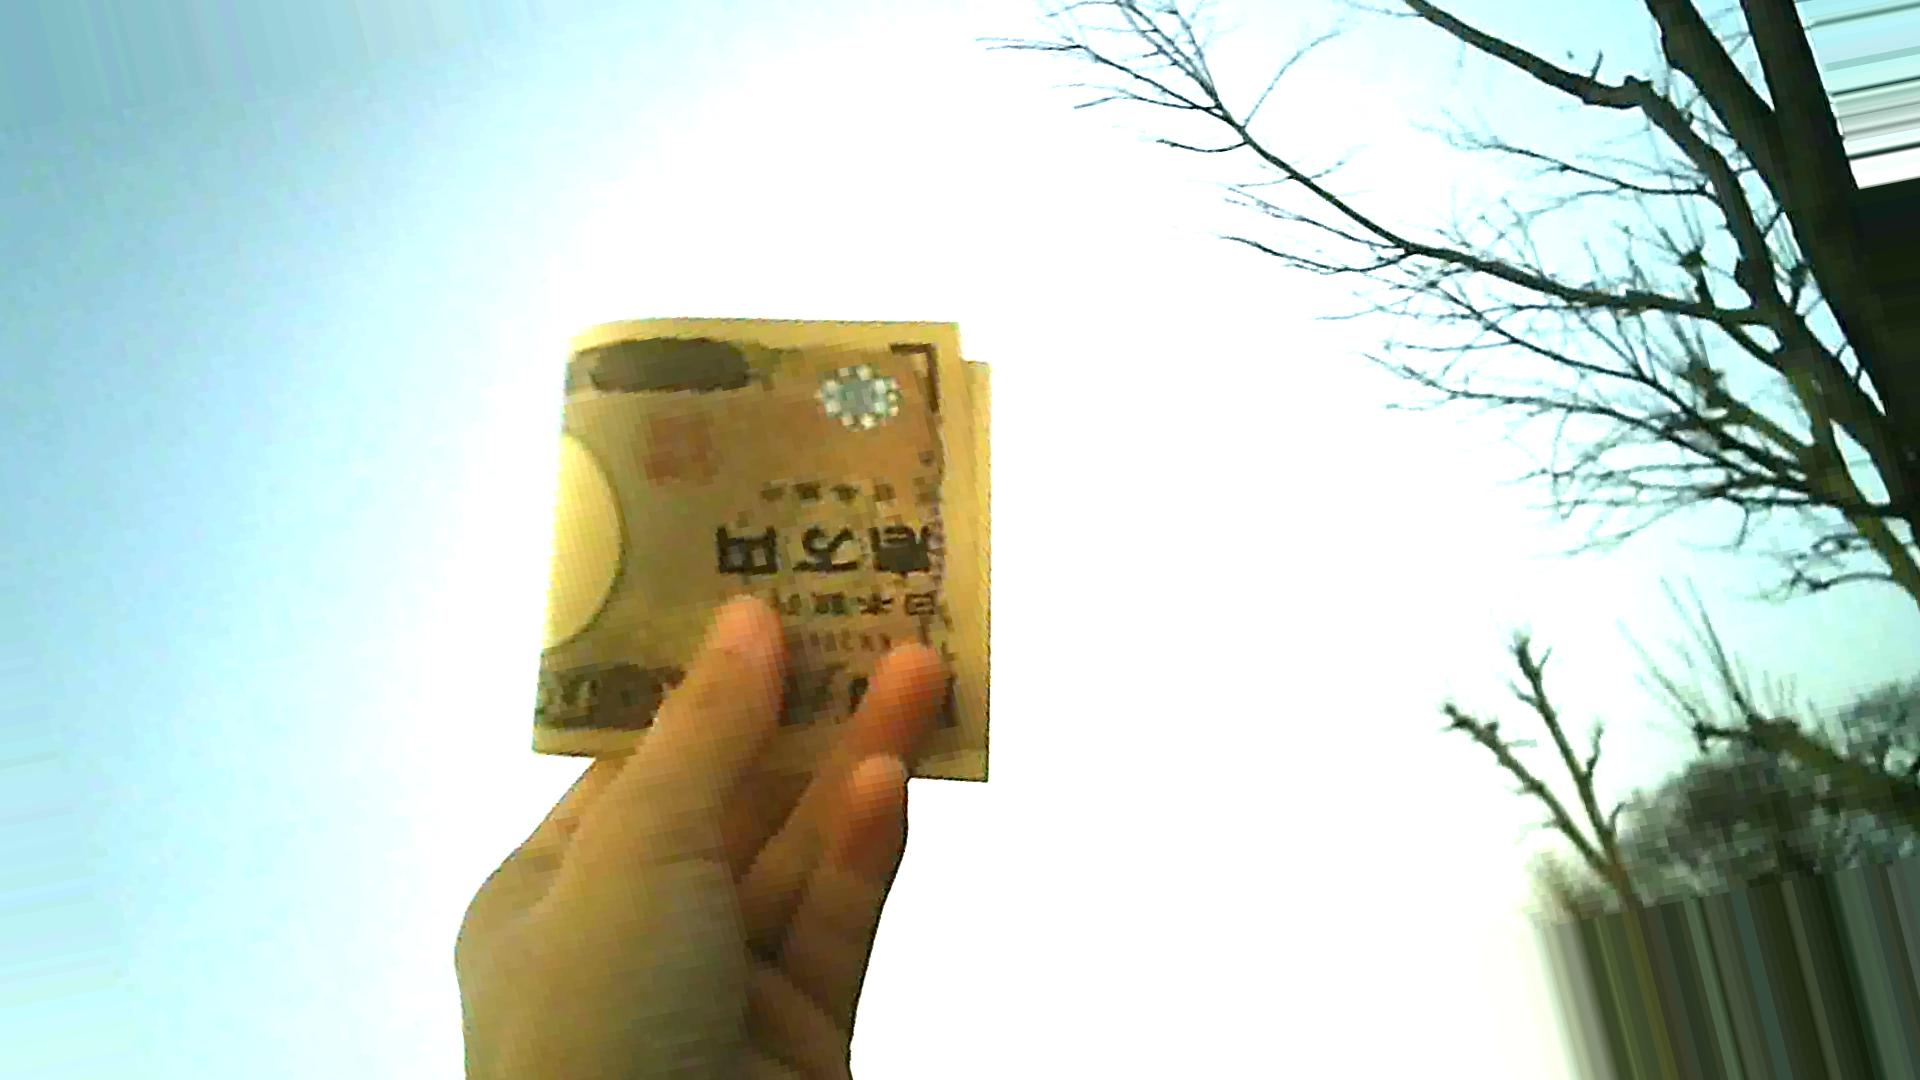10,000 Yen: (538, 278, 1033, 816)
